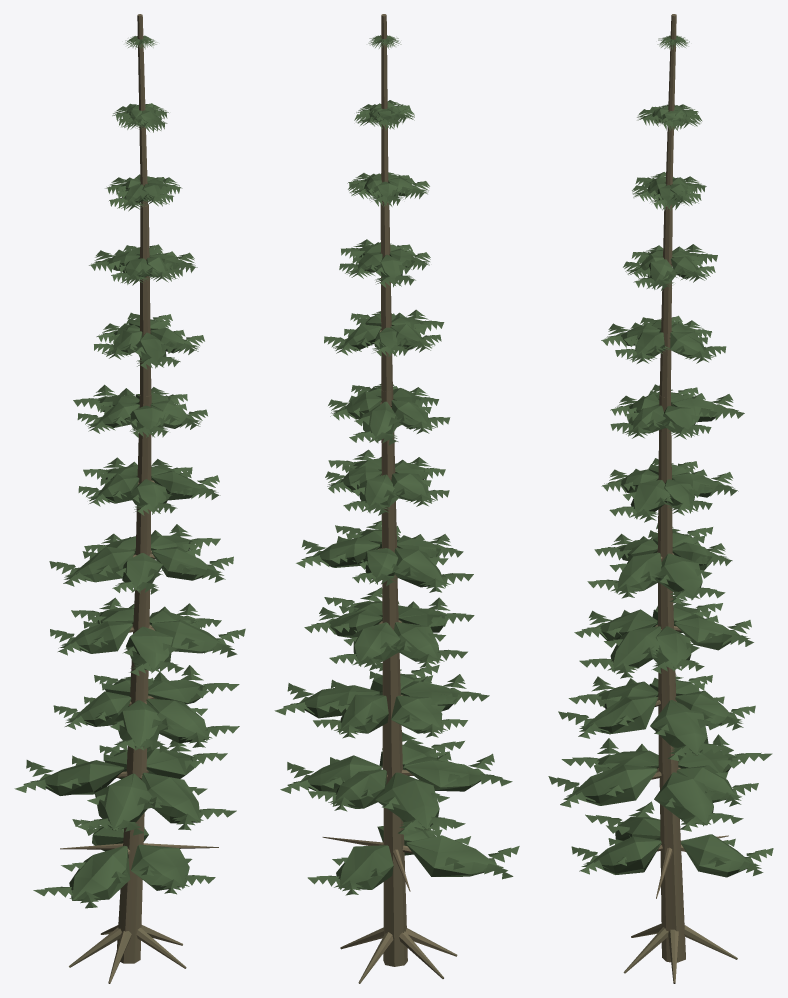
Rendered from taiga-fir.glb.
The picture shows the model from 3 angles, left to right: view 1: azimuth 30°, elevation 25°; view 2: azimuth 150°, elevation 25°; view 3: azimuth 270°, elevation 25°; orthographic projection.
Parts seen in each view (by area): view 1: Пихта сибирская · Abies sibirica; view 2: Пихта сибирская · Abies sibirica; view 3: Пихта сибирская · Abies sibirica.
Part boxes in pixels (<box>): Пихта сибирская · Abies sibirica: <box>14,14,245,983</box>; Пихта сибирская · Abies sibirica: <box>274,14,519,983</box>; Пихта сибирская · Abies sibirica: <box>548,14,773,983</box>.
Size of the model in its own units: 6.95 by 29.02 by 6.25.
